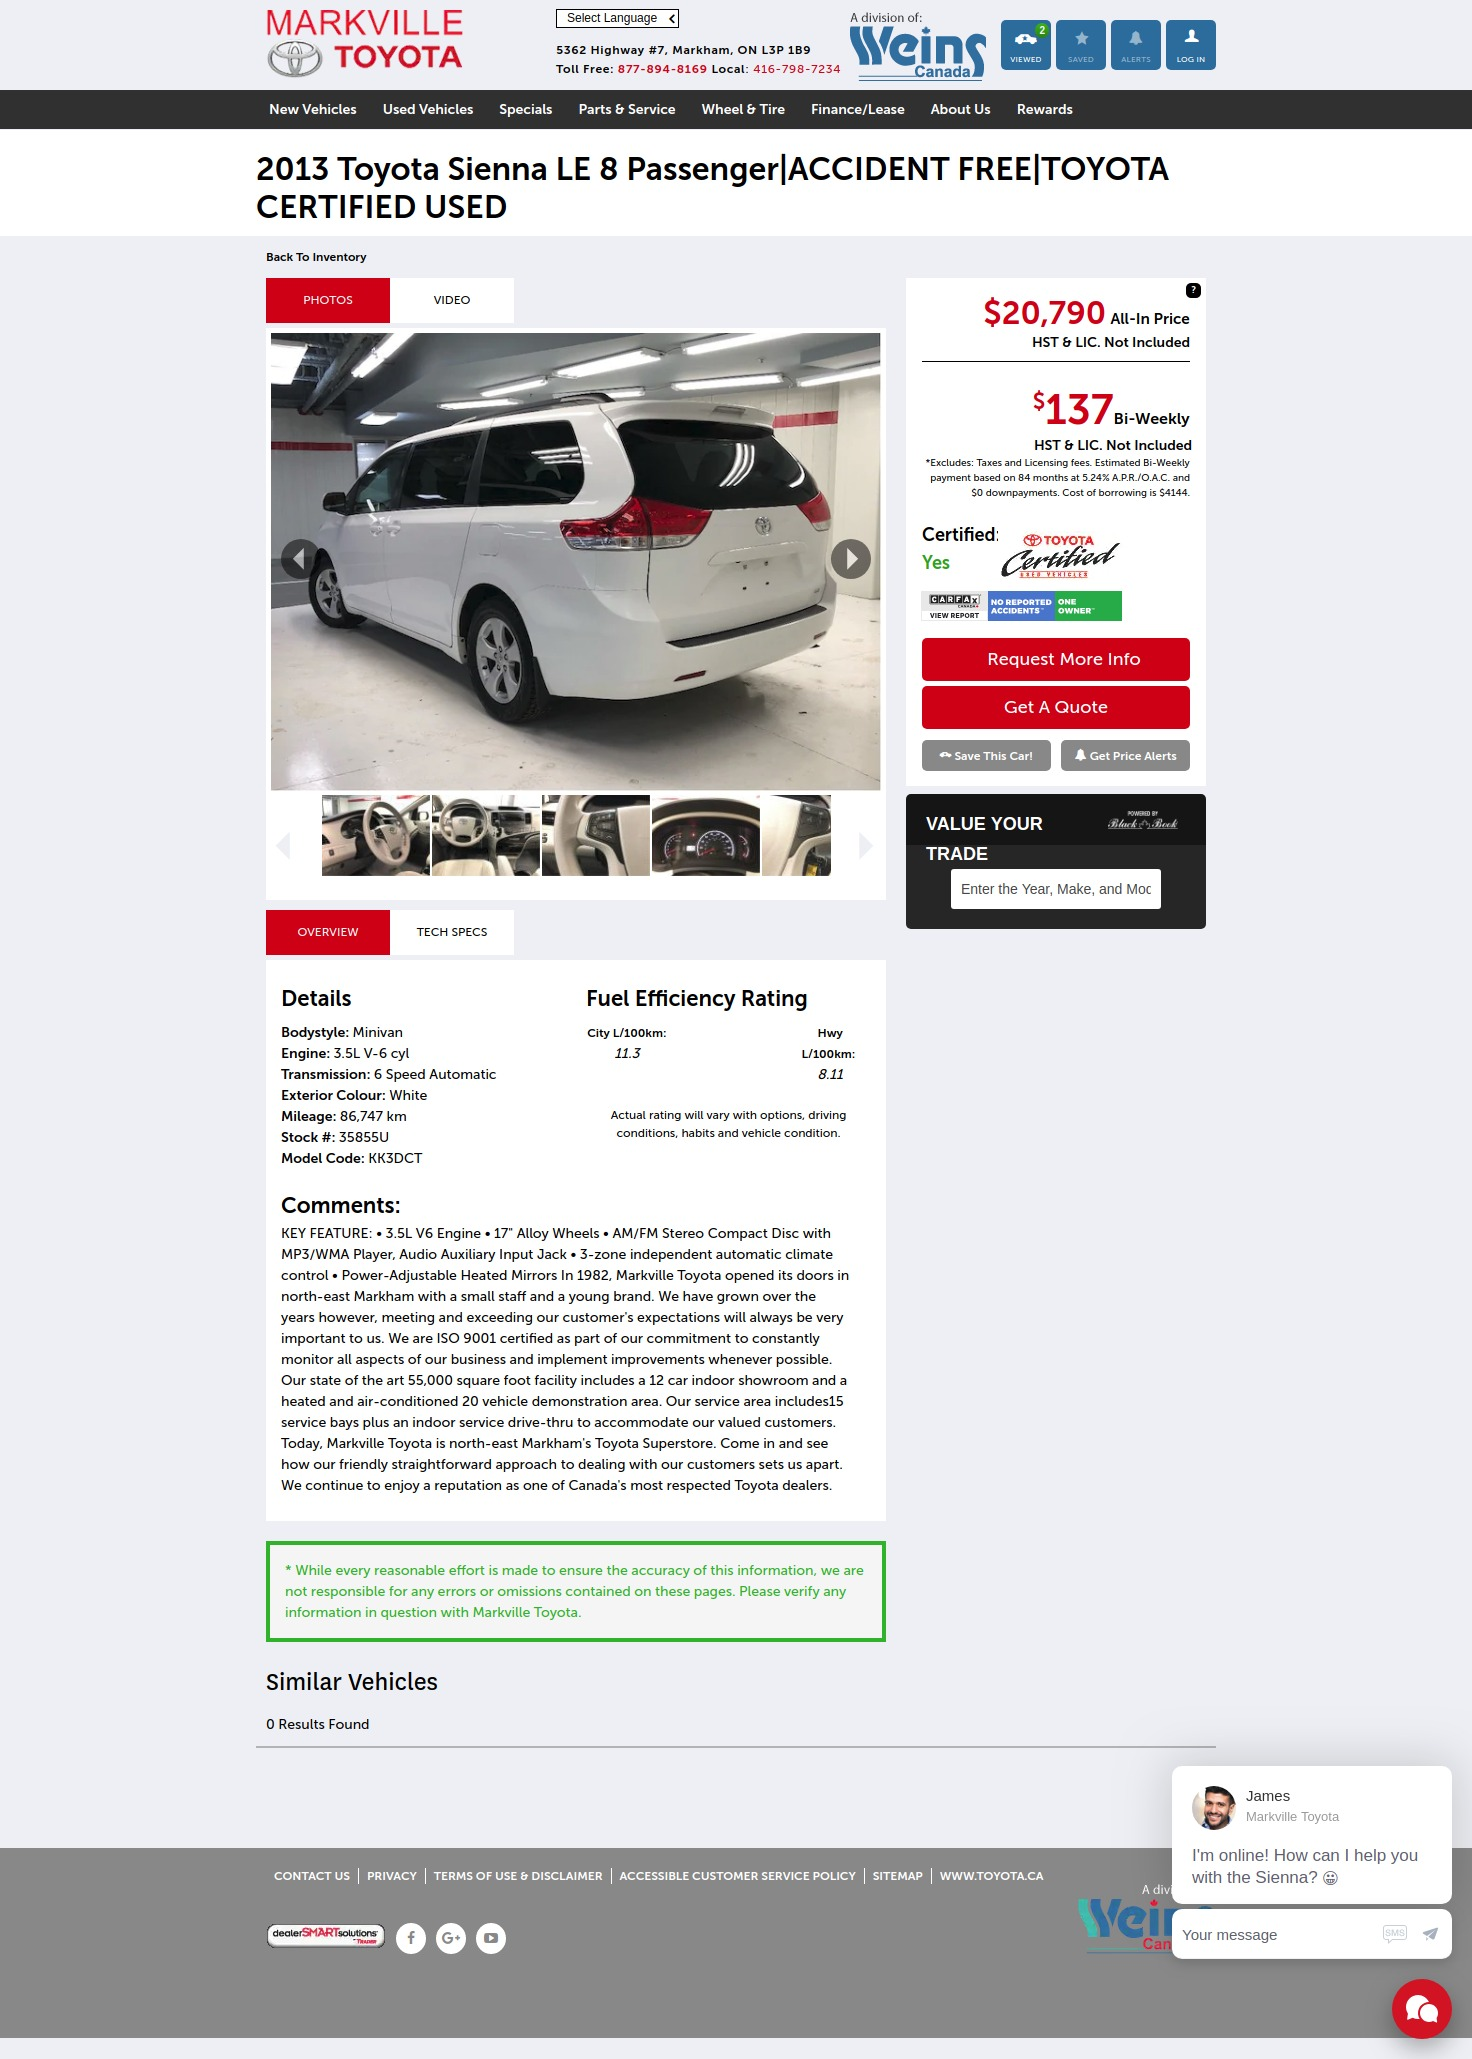car: (859, 831, 875, 861)
